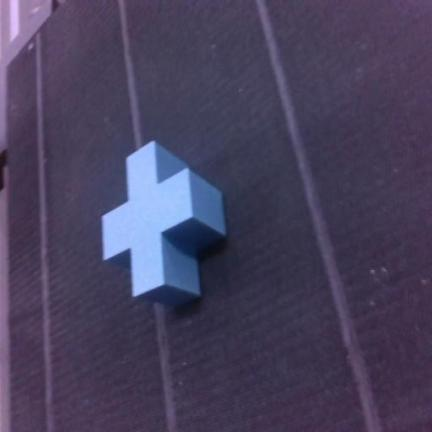cross: (103, 142, 225, 305)
